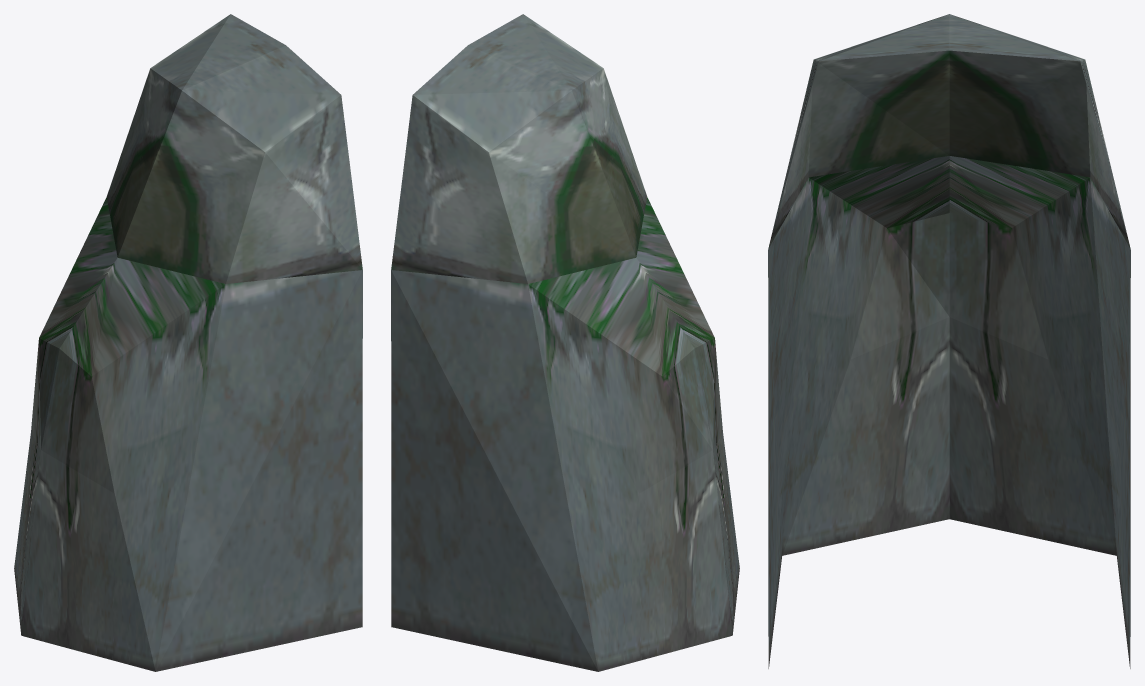
The model's file is stemple_wall_transition_08.fbx.
The picture shows the model from 3 angles, left to right: view 1: azimuth 30°, elevation 25°; view 2: azimuth 150°, elevation 25°; view 3: azimuth 270°, elevation 25°; orthographic projection. The views are drawn at different scales.
Visible parts, largest first — view 1: obj1.106; view 2: obj1.106; view 3: obj1.106.
Part boxes in pixels (bbox=[...]): obj1.106: bbox=[14, 14, 362, 671]; obj1.106: bbox=[391, 14, 739, 671]; obj1.106: bbox=[768, 14, 1130, 668].
Size of the model in its own units: 0.8302 by 1.57 by 0.8328.
